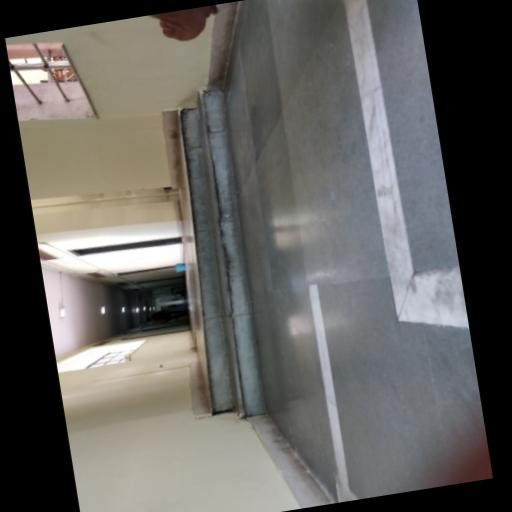stairs: (179, 89, 264, 416)
